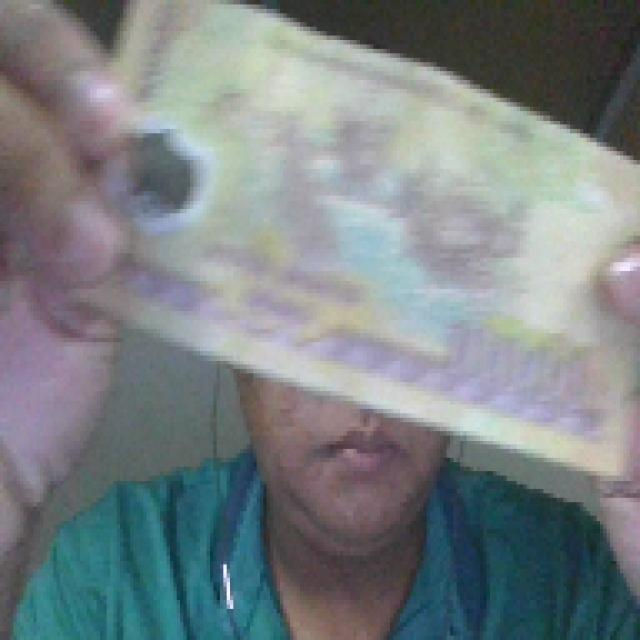10 000 VND: (86, 0, 636, 507)
